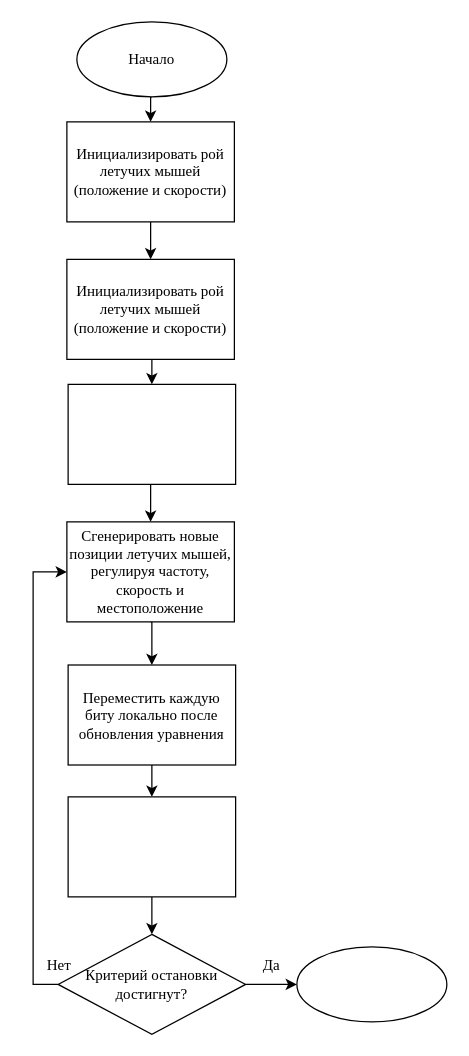
The diagram is 469 pixels wide and 1056 high, and some of its shapes have lost their labels. Here are the shapes that lost their labels. From the top down, the centre of each, then its label:
the point at 151,433: Определить пульс, частоту и количество летучих мышей
the point at 151,846: Оценка пригодности и обновления каждой биты
the point at 371,984: Конец
